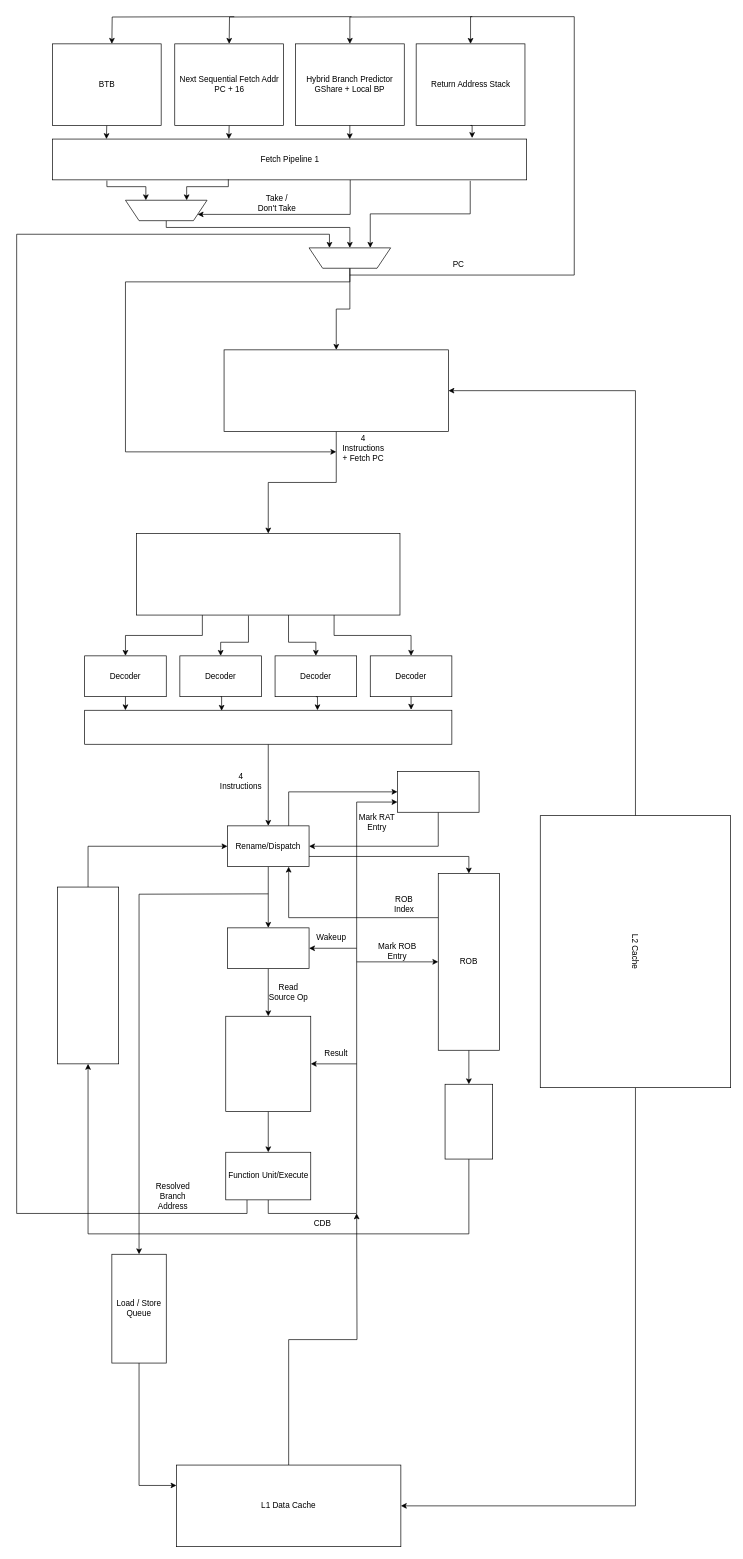
This 743x1559 diagram has some shape labels left out. Here are the shapes that lost their labels. From the top down, the centre of each, then its label:
[335,390]: L1 Instruction Cache 64 Byte Cache Line * 8 Sets * 8 Ways = 32 KiB PIPT
[268,574]: Fetch Buffer/Instruction Queue 160 Bit Wide
[268,727]: Pipeline Latch
[438,791]: RAT
[268,948]: Reservation Station(s)
[88,975]: Free List
[268,1063]: Physical Register File
[468,1121]: RRF
